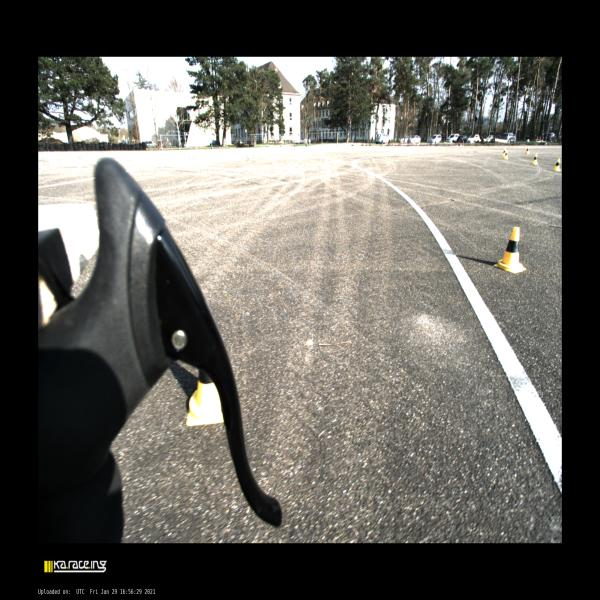yellow_cone: (187, 368, 225, 427), (494, 227, 526, 274), (553, 158, 561, 171), (532, 153, 538, 164), (504, 150, 508, 160), (526, 146, 530, 154), (502, 148, 505, 156)
